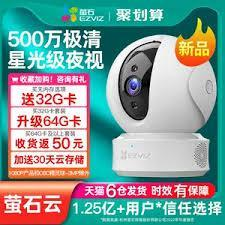maru: (103, 34, 216, 136)
